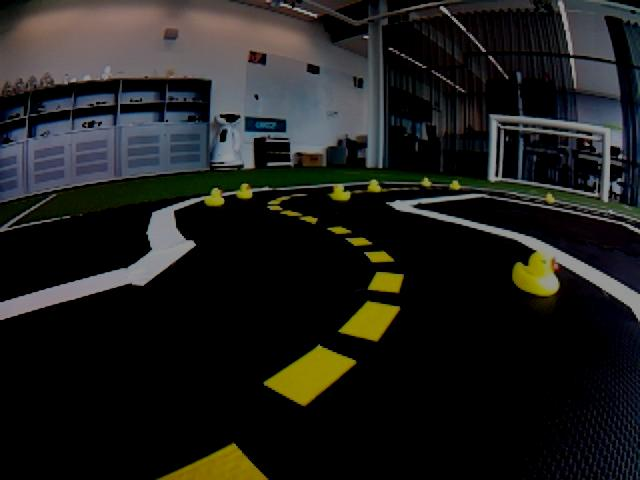Duckies: (511, 251, 559, 299), (203, 187, 224, 206), (329, 185, 352, 202), (366, 178, 383, 192), (236, 185, 253, 199), (543, 192, 555, 203), (420, 177, 432, 187), (449, 180, 460, 190)
